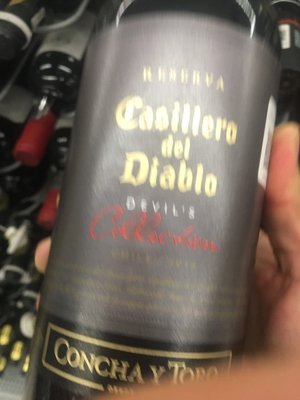casillero del diablo devils collection rojo: (51, 6, 280, 400)
